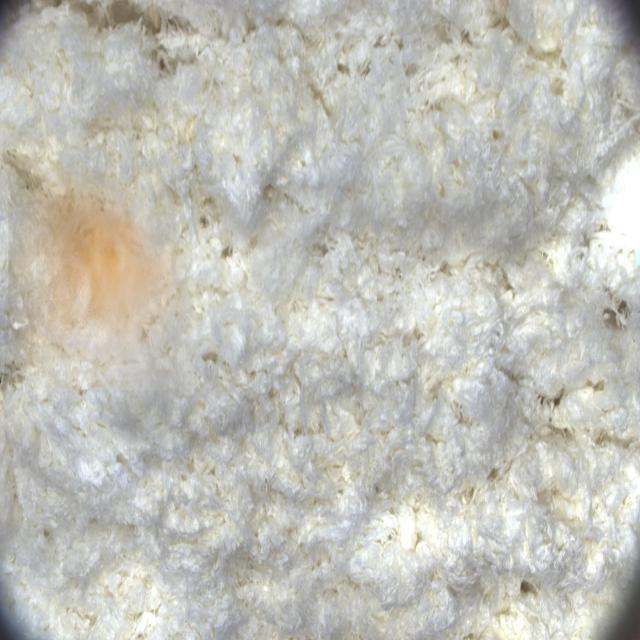dust: (9, 160, 193, 390)
